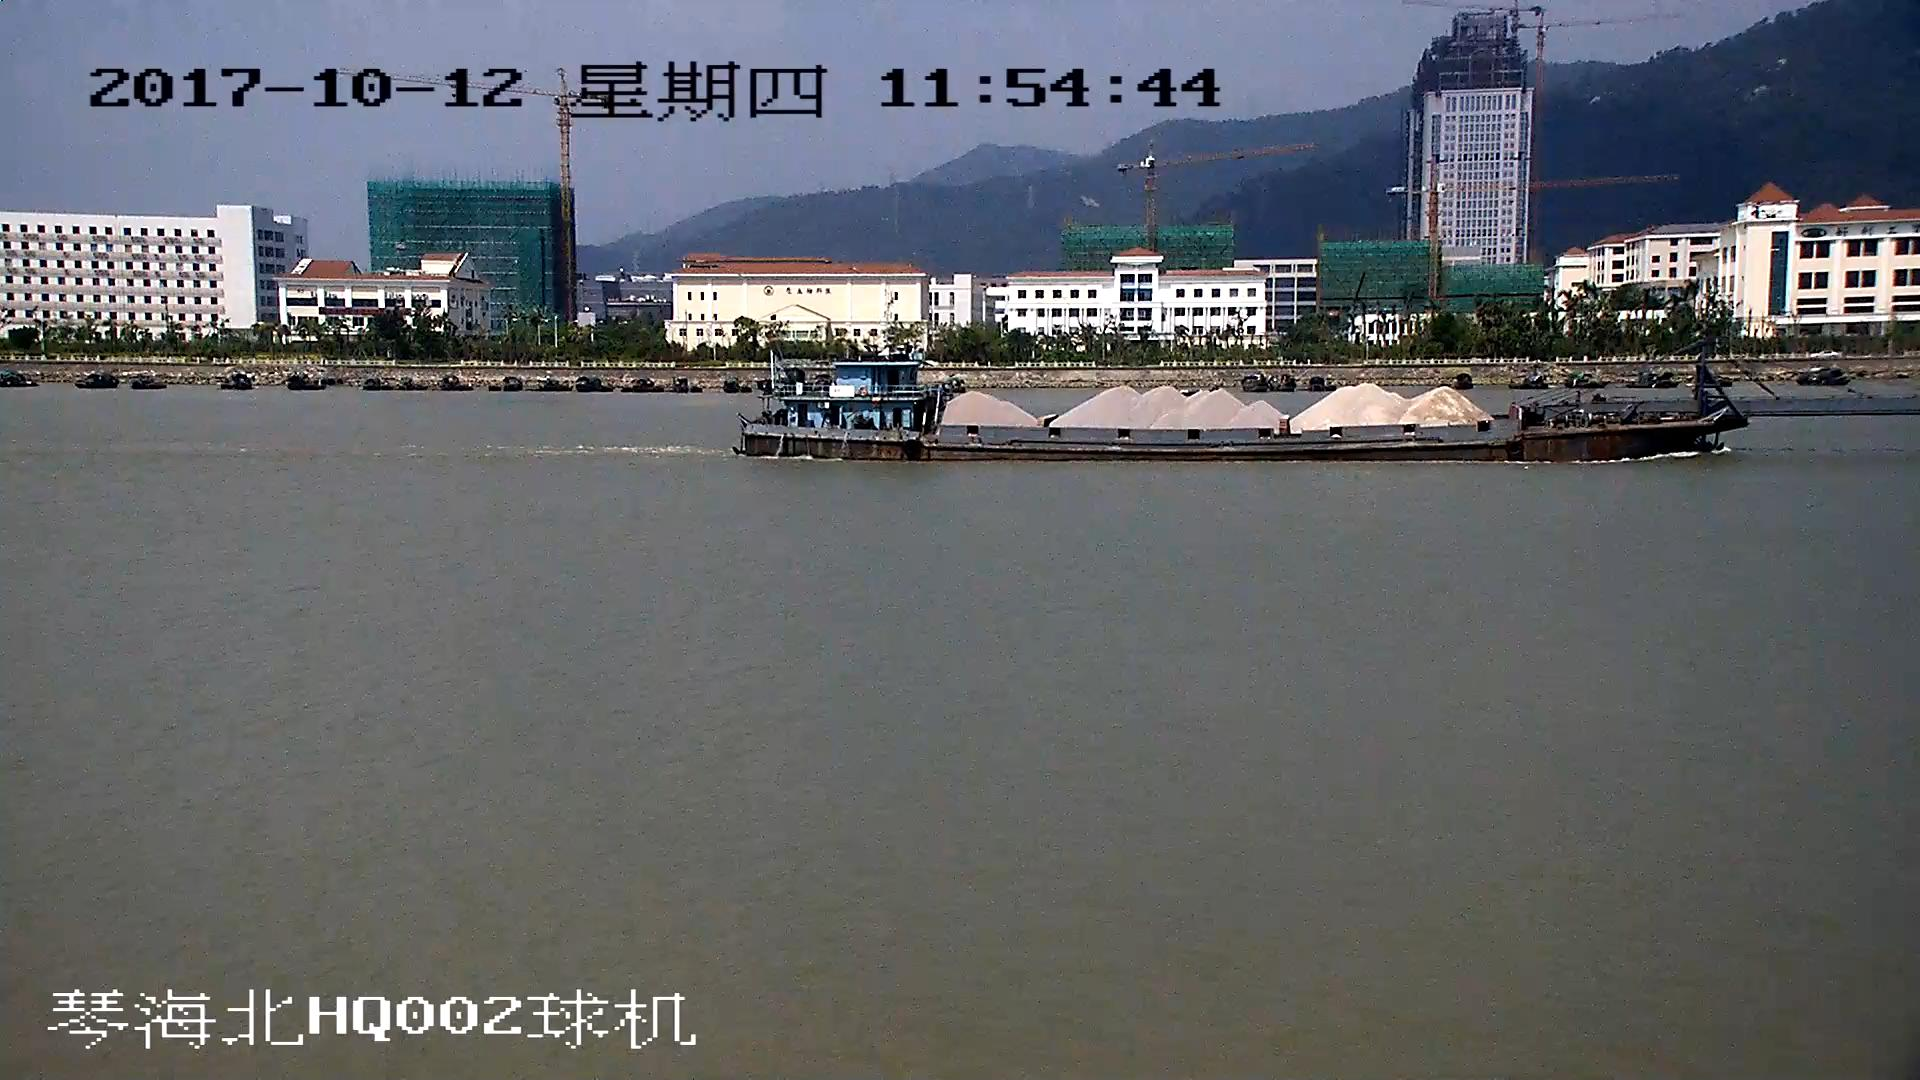ore carrier: (741, 324, 1920, 463)
